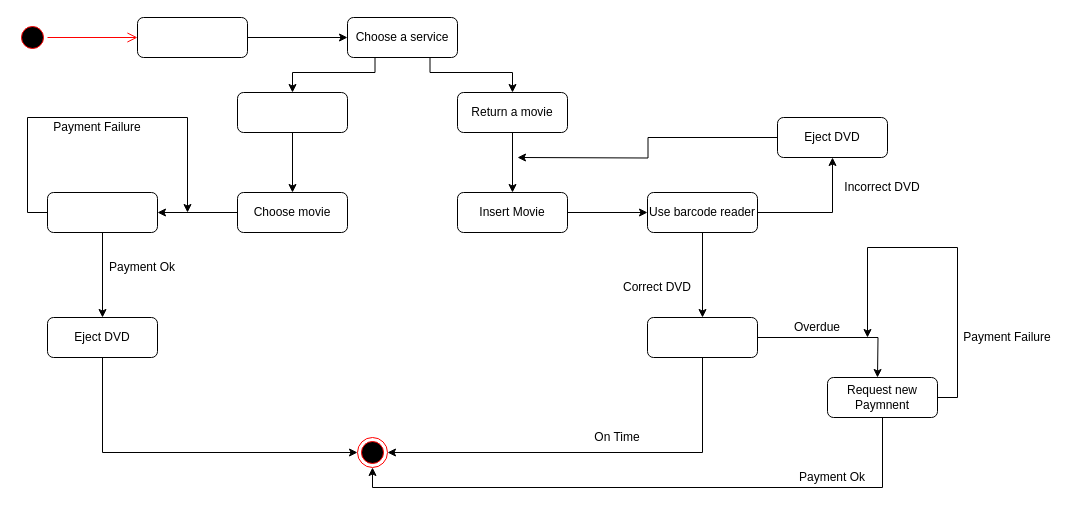
Image size: 1075x513. Some labels were removed from this diagram. The shapes that lost their labels are listed below. From the top down, each one's box as (x1, y1, x2, y2) in pixels, then its label:
(136, 16, 248, 58): Log in
(236, 92, 348, 132): Rent a movie
(46, 192, 158, 232): Proceed to payment
(646, 316, 758, 358): Check if it's overdue
